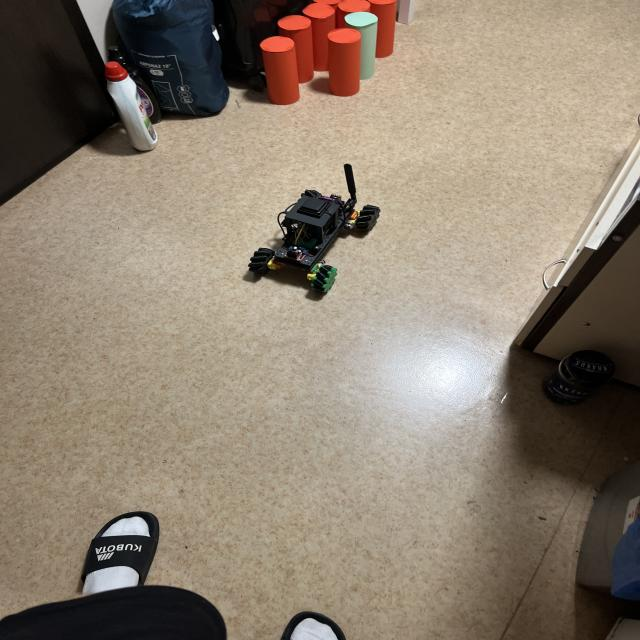robot: (248, 164, 380, 293)
